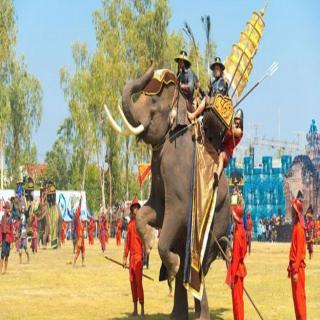Elephant: (103, 50, 234, 320)
